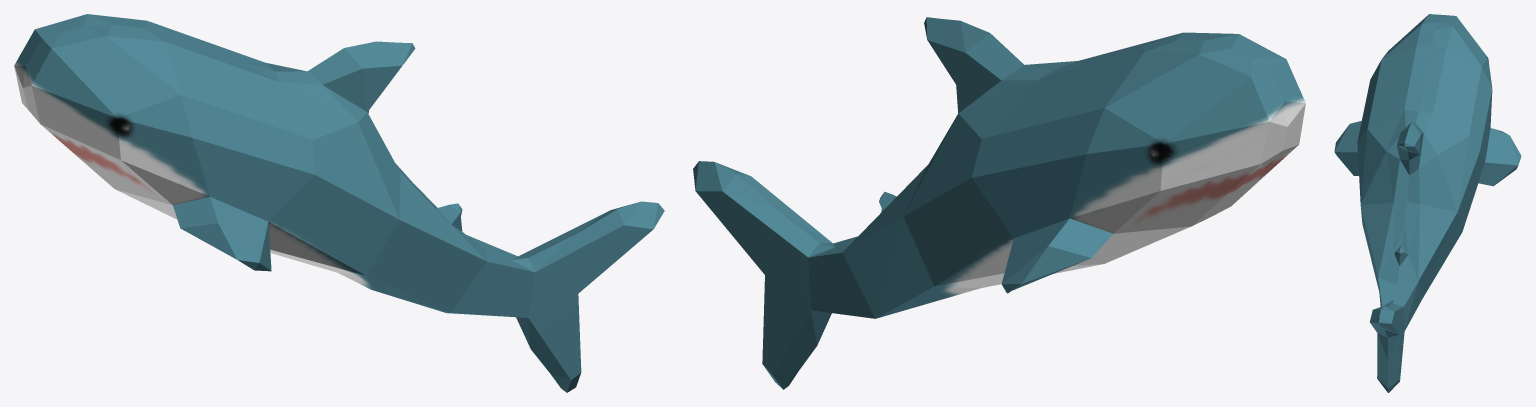
The model's file is blahaj.glb.
The picture shows the model from 3 angles, left to right: view 1: azimuth 30°, elevation 25°; view 2: azimuth 150°, elevation 25°; view 3: azimuth 270°, elevation 25°; orthographic projection. The views are drawn at different scales.
Parts seen in each view (by area): view 1: Plane_Plane.001; view 2: Plane_Plane.001; view 3: Plane_Plane.001.
Boxes of the visible parts, x1,y1,x2,y2 form: Plane_Plane.001: (14,14,664,392); Plane_Plane.001: (693,17,1305,389); Plane_Plane.001: (1334,14,1521,392).
Size of the model in its own units: 3.26 by 2.34 by 1.59.
1 material, 1 textured.
